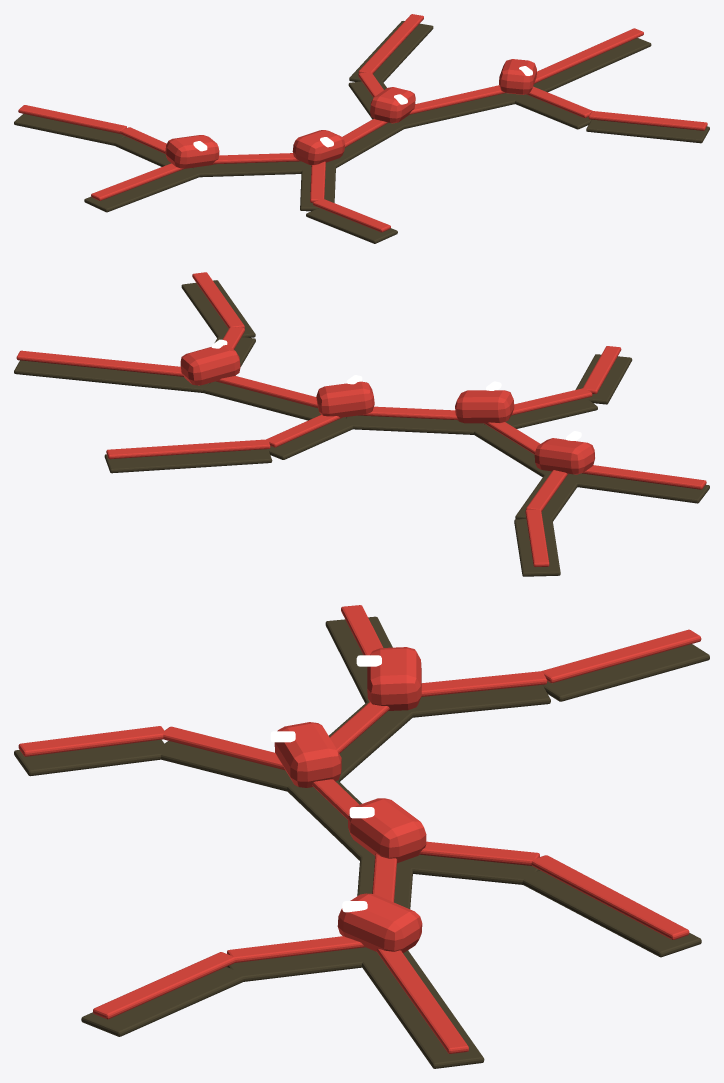
Rendered from cult_blood_root.glb.
3 renders of one model, top to bottom at view 1: azimuth 30°, elevation 25°; view 2: azimuth 150°, elevation 25°; view 3: azimuth 270°, elevation 25°, orthographic. The views are drawn at different scales.
Parts seen in each view (by area): view 1: CULT_BLOOD_ROOT__Dark_Crust_0_4, CULT_BLOOD_ROOT__Dark_Crust_4_1, CULT_BLOOD_ROOT__Dark_Crust_0_3, CULT_BLOOD_ROOT__Dark_Crust_0_0, CULT_BLOOD_ROOT__Dark_Crust_0_1, CULT_BLOOD_ROOT__Growth_Node_0, CULT_BLOOD_ROOT__Dark_Crust_1_1, CULT_BLOOD_ROOT__Growth_Node_1, CULT_BLOOD_ROOT__Dark_Crust_3_1, CULT_BLOOD_ROOT__Living_Root_0_4, CULT_BLOOD_ROOT__Growth_Node_2, CULT_BLOOD_ROOT__Dark_Crust_2_1 (+17 smaller); view 2: CULT_BLOOD_ROOT__Dark_Crust_0_4, CULT_BLOOD_ROOT__Dark_Crust_3_1, CULT_BLOOD_ROOT__Dark_Crust_0_0, CULT_BLOOD_ROOT__Growth_Node_3, CULT_BLOOD_ROOT__Dark_Crust_0_2, CULT_BLOOD_ROOT__Growth_Node_1, CULT_BLOOD_ROOT__Growth_Node_0, CULT_BLOOD_ROOT__Growth_Node_2, CULT_BLOOD_ROOT__Living_Root_0_4, CULT_BLOOD_ROOT__Dark_Crust_0_3, CULT_BLOOD_ROOT__Living_Root_3_1, CULT_BLOOD_ROOT__Dark_Crust_1_1 (+16 smaller); view 3: CULT_BLOOD_ROOT__Dark_Crust_0_4, CULT_BLOOD_ROOT__Dark_Crust_3_1, CULT_BLOOD_ROOT__Growth_Node_3, CULT_BLOOD_ROOT__Growth_Node_2, CULT_BLOOD_ROOT__Dark_Crust_1_1, CULT_BLOOD_ROOT__Dark_Crust_4_1, CULT_BLOOD_ROOT__Growth_Node_1, CULT_BLOOD_ROOT__Growth_Node_0, CULT_BLOOD_ROOT__Dark_Crust_2_1, CULT_BLOOD_ROOT__Living_Root_3_1, CULT_BLOOD_ROOT__Dark_Crust_4_0, CULT_BLOOD_ROOT__Dark_Crust_1_0 (+18 smaller).
Boxes of the visible parts, <box> form: CULT_BLOOD_ROOT__Dark_Crust_0_4: <box>533,38,651,92</box>; CULT_BLOOD_ROOT__Dark_Crust_4_1: <box>586,119,709,143</box>; CULT_BLOOD_ROOT__Dark_Crust_0_3: <box>398,93,521,128</box>; CULT_BLOOD_ROOT__Dark_Crust_0_0: <box>84,168,201,212</box>; CULT_BLOOD_ROOT__Dark_Crust_0_1: <box>193,161,311,177</box>; CULT_BLOOD_ROOT__Growth_Node_0: <box>165,135,219,168</box>; CULT_BLOOD_ROOT__Dark_Crust_1_1: <box>14,114,125,145</box>; CULT_BLOOD_ROOT__Growth_Node_1: <box>292,130,345,165</box>; CULT_BLOOD_ROOT__Dark_Crust_3_1: <box>349,21,433,82</box>; CULT_BLOOD_ROOT__Living_Root_0_4: <box>534,28,643,83</box>; CULT_BLOOD_ROOT__Growth_Node_2: <box>370,87,415,123</box>; CULT_BLOOD_ROOT__Dark_Crust_2_1: <box>306,208,397,243</box>; CULT_BLOOD_ROOT__Dark_Crust_0_4: <box>14,360,209,392</box>; CULT_BLOOD_ROOT__Dark_Crust_3_1: <box>104,449,272,473</box>; CULT_BLOOD_ROOT__Dark_Crust_0_0: <box>564,473,709,503</box>; CULT_BLOOD_ROOT__Growth_Node_3: <box>180,345,240,385</box>; CULT_BLOOD_ROOT__Dark_Crust_0_2: <box>346,415,484,434</box>; CULT_BLOOD_ROOT__Growth_Node_1: <box>455,390,514,423</box>; CULT_BLOOD_ROOT__Growth_Node_0: <box>534,438,594,474</box>; CULT_BLOOD_ROOT__Growth_Node_2: <box>316,381,374,417</box>; CULT_BLOOD_ROOT__Living_Root_0_4: <box>16,350,183,376</box>; CULT_BLOOD_ROOT__Dark_Crust_0_3: <box>203,381,345,420</box>; CULT_BLOOD_ROOT__Living_Root_3_1: <box>106,439,270,459</box>; CULT_BLOOD_ROOT__Dark_Crust_1_1: <box>514,518,560,576</box>; CULT_BLOOD_ROOT__Dark_Crust_0_4: <box>357,950,484,1068</box>; CULT_BLOOD_ROOT__Dark_Crust_3_1: <box>522,870,701,957</box>; CULT_BLOOD_ROOT__Growth_Node_3: <box>337,893,422,952</box>; CULT_BLOOD_ROOT__Growth_Node_2: <box>348,798,426,863</box>; CULT_BLOOD_ROOT__Dark_Crust_1_1: <box>542,644,709,701</box>; CULT_BLOOD_ROOT__Dark_Crust_4_1: <box>81,967,243,1036</box>; CULT_BLOOD_ROOT__Growth_Node_1: <box>274,722,341,787</box>; CULT_BLOOD_ROOT__Growth_Node_0: <box>367,647,421,710</box>; CULT_BLOOD_ROOT__Dark_Crust_2_1: <box>14,739,169,776</box>; CULT_BLOOD_ROOT__Living_Root_3_1: <box>531,855,689,939</box>; CULT_BLOOD_ROOT__Dark_Crust_4_0: <box>227,947,381,981</box>; CULT_BLOOD_ROOT__Dark_Crust_1_0: <box>401,685,550,717</box>.
Bounding box in the file's own units: 1.48 × 0.0795 × 0.9694.
